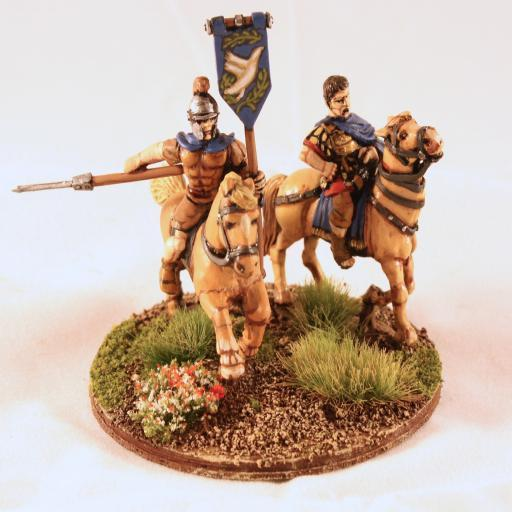horse: (260, 108, 444, 344), (148, 168, 272, 380)
